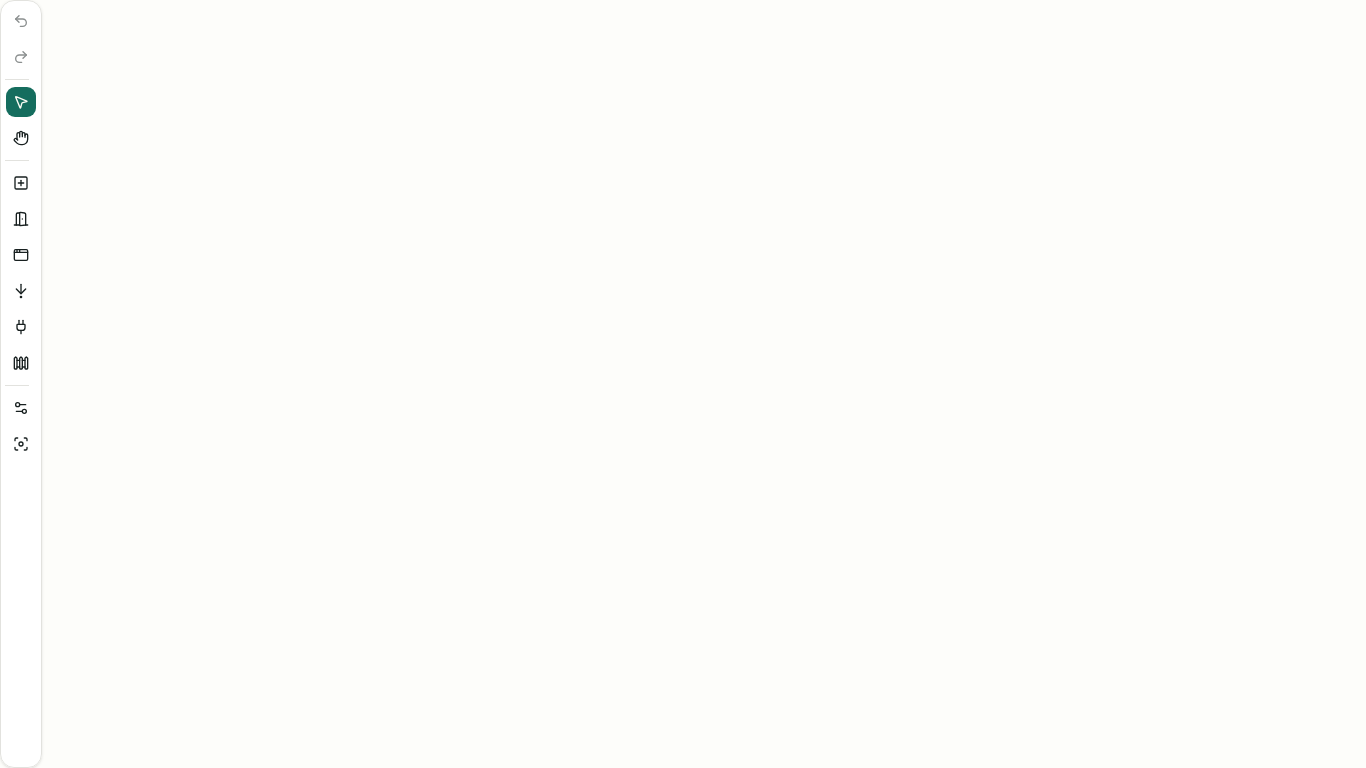
EditorToolbar — palette Utilitas (Listrik + Air, dua grup) › menampilkan grup Listrik dan Air di dalam SATU palette
Click the button named "Utilitas (listrik & air)" at (21, 327), box [5, 311, 37, 343]
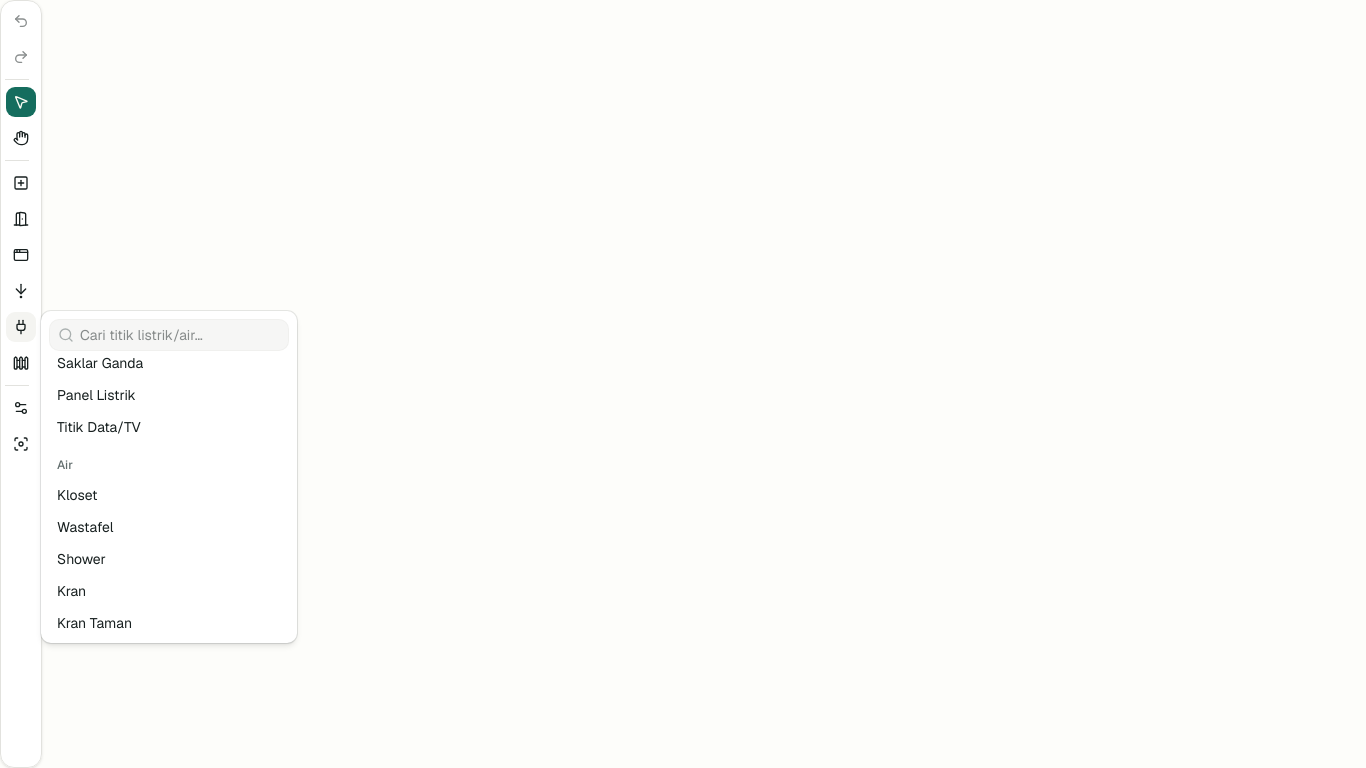
expect the text "Air" is shown: met, box [57, 457, 73, 473]
expect the option "Kloset" is shown: met, box [57, 486, 98, 504]
